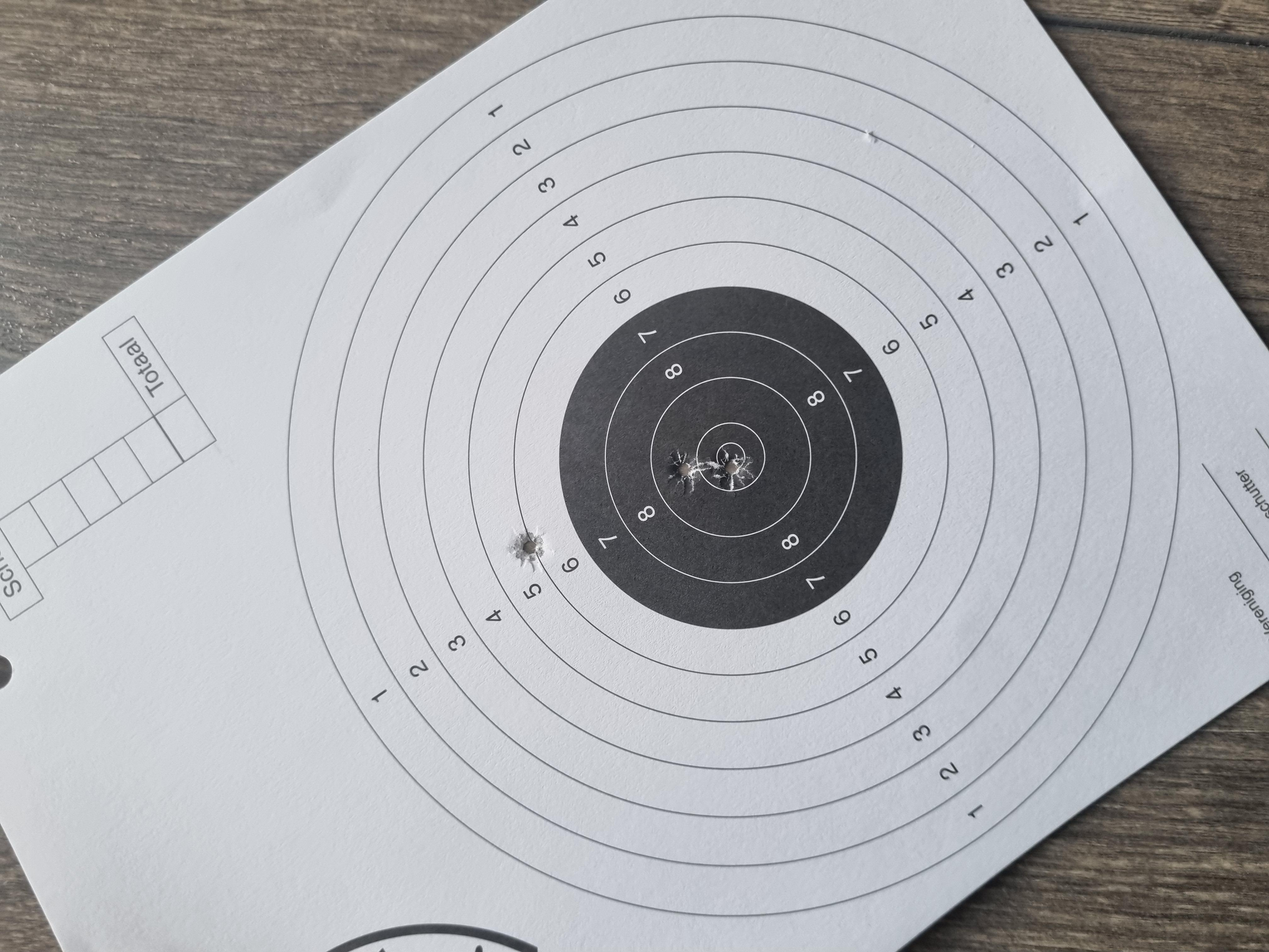hole: (512, 379, 567, 413), (618, 531, 665, 567), (618, 499, 667, 530)
